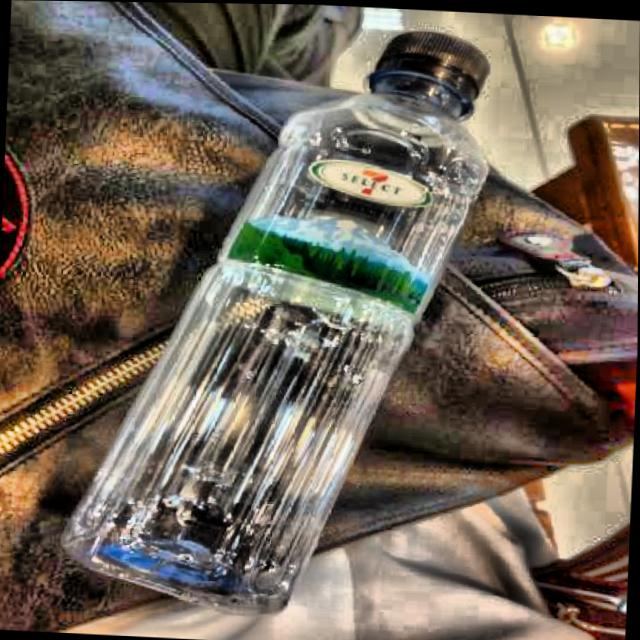Bottles: (45, 14, 536, 624)
